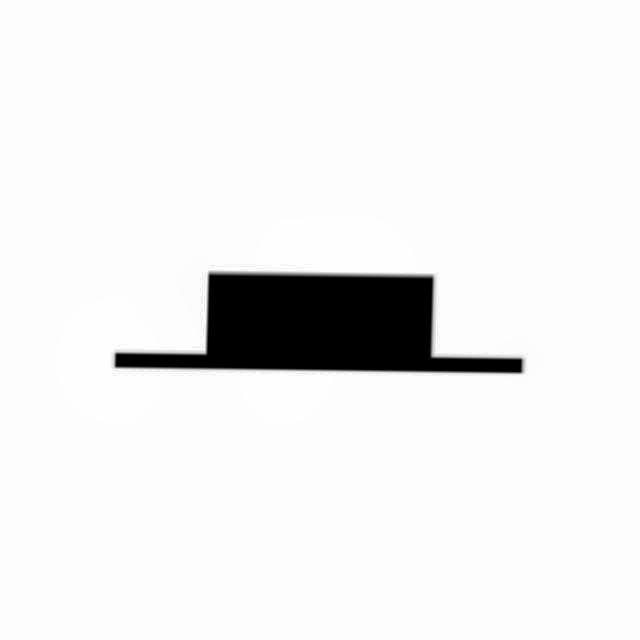Half-rest: (80, 256, 558, 399)
